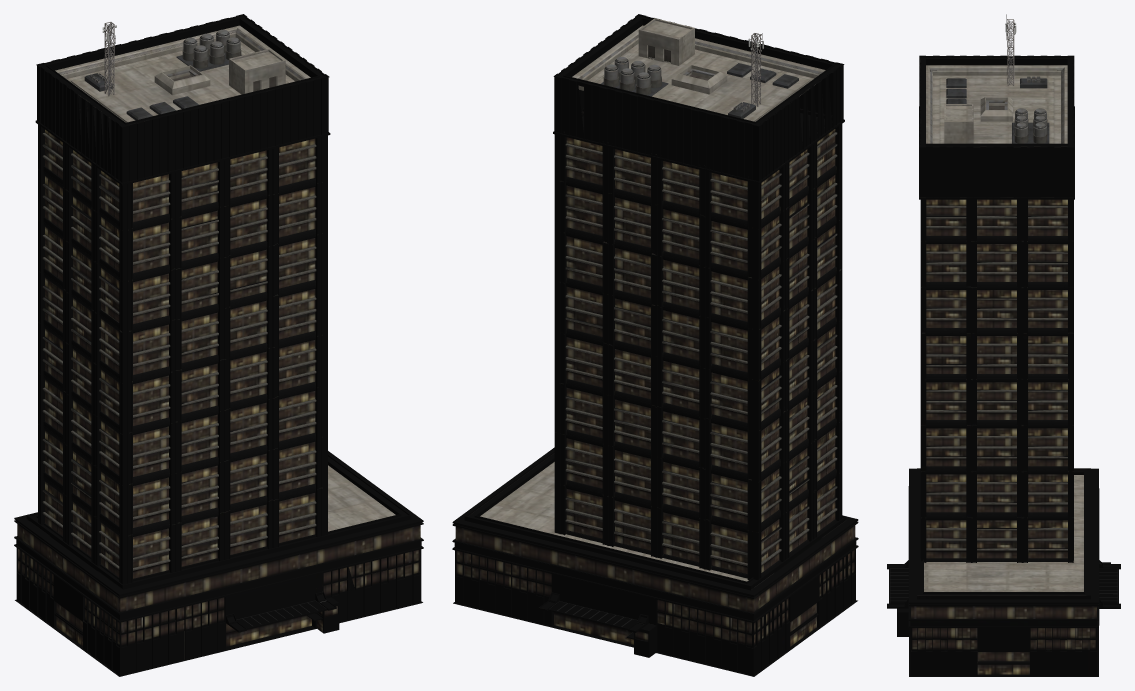
The model's file is bld22_18.glb.
3 renders of one model, left to right at view 1: azimuth 30°, elevation 25°; view 2: azimuth 150°, elevation 25°; view 3: azimuth 270°, elevation 25°, orthographic. The views are drawn at different scales.
Parts seen in each view (by area): view 1: bld22_18; view 2: bld22_18; view 3: bld22_18.
Part boxes in pixels (x1,y1,x2,y2): bld22_18: (14,14,423,676); bld22_18: (452,14,858,676); bld22_18: (887,14,1120,676).
Bounding box in the file's own units: 150 × 285 × 110.
1 material, 1 textured.
